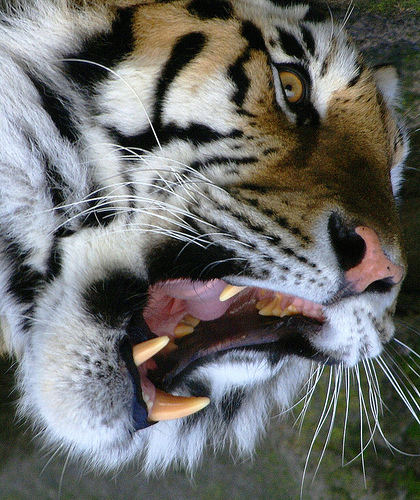Tigre: (28, 9, 408, 431)
